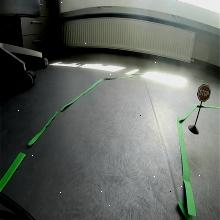stop: (197, 84, 211, 103)
